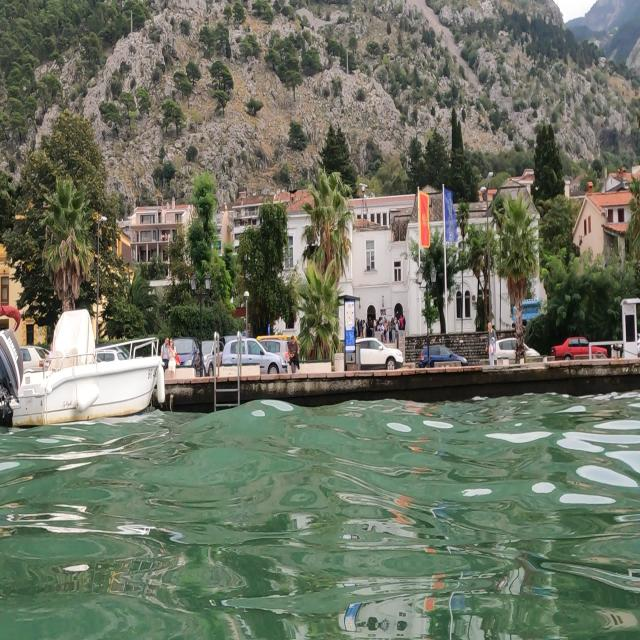boat: (3, 306, 165, 428)
